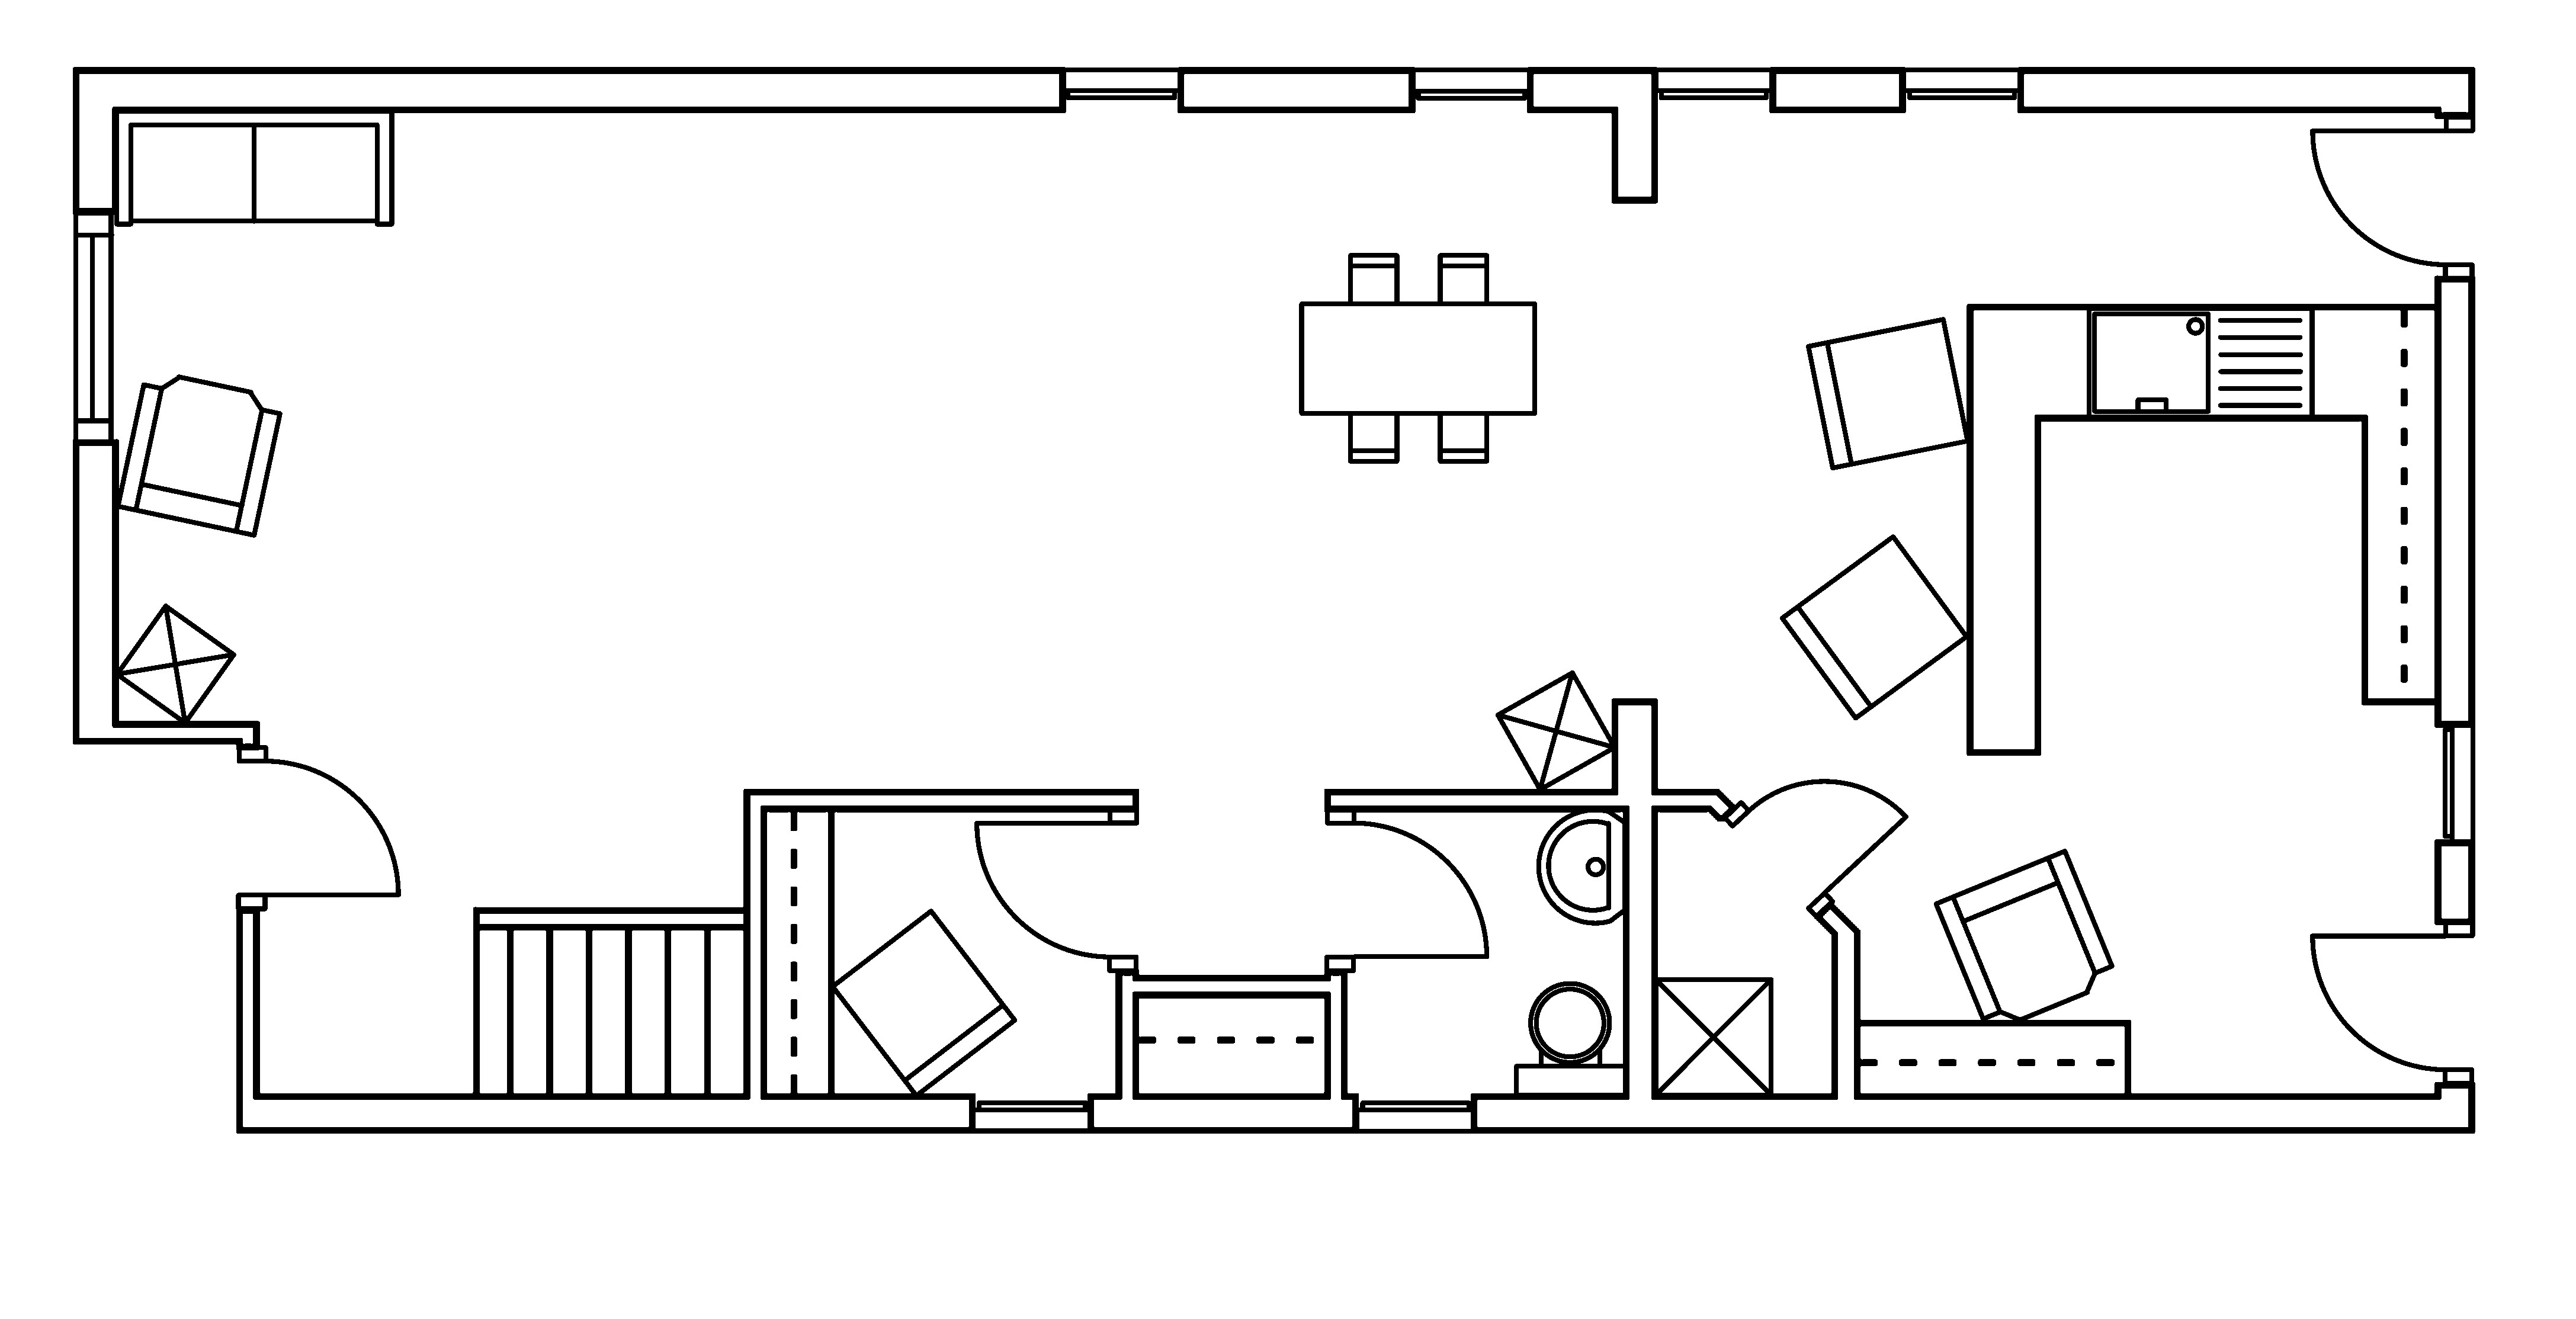armchair: (1932, 848, 2115, 1023), (114, 373, 282, 538)
coffee_table: (1493, 670, 1618, 792), (113, 602, 237, 725), (1651, 976, 1774, 1097)
dining_table: (1298, 252, 1537, 464)
large_sink: (1513, 981, 1628, 1097)
large_sofa: (113, 108, 395, 227)
sink: (2085, 305, 2314, 421)
small_sink: (1535, 808, 1628, 925)
small_sofa: (829, 907, 1017, 1099), (1779, 533, 1969, 720), (1804, 316, 1971, 471)
